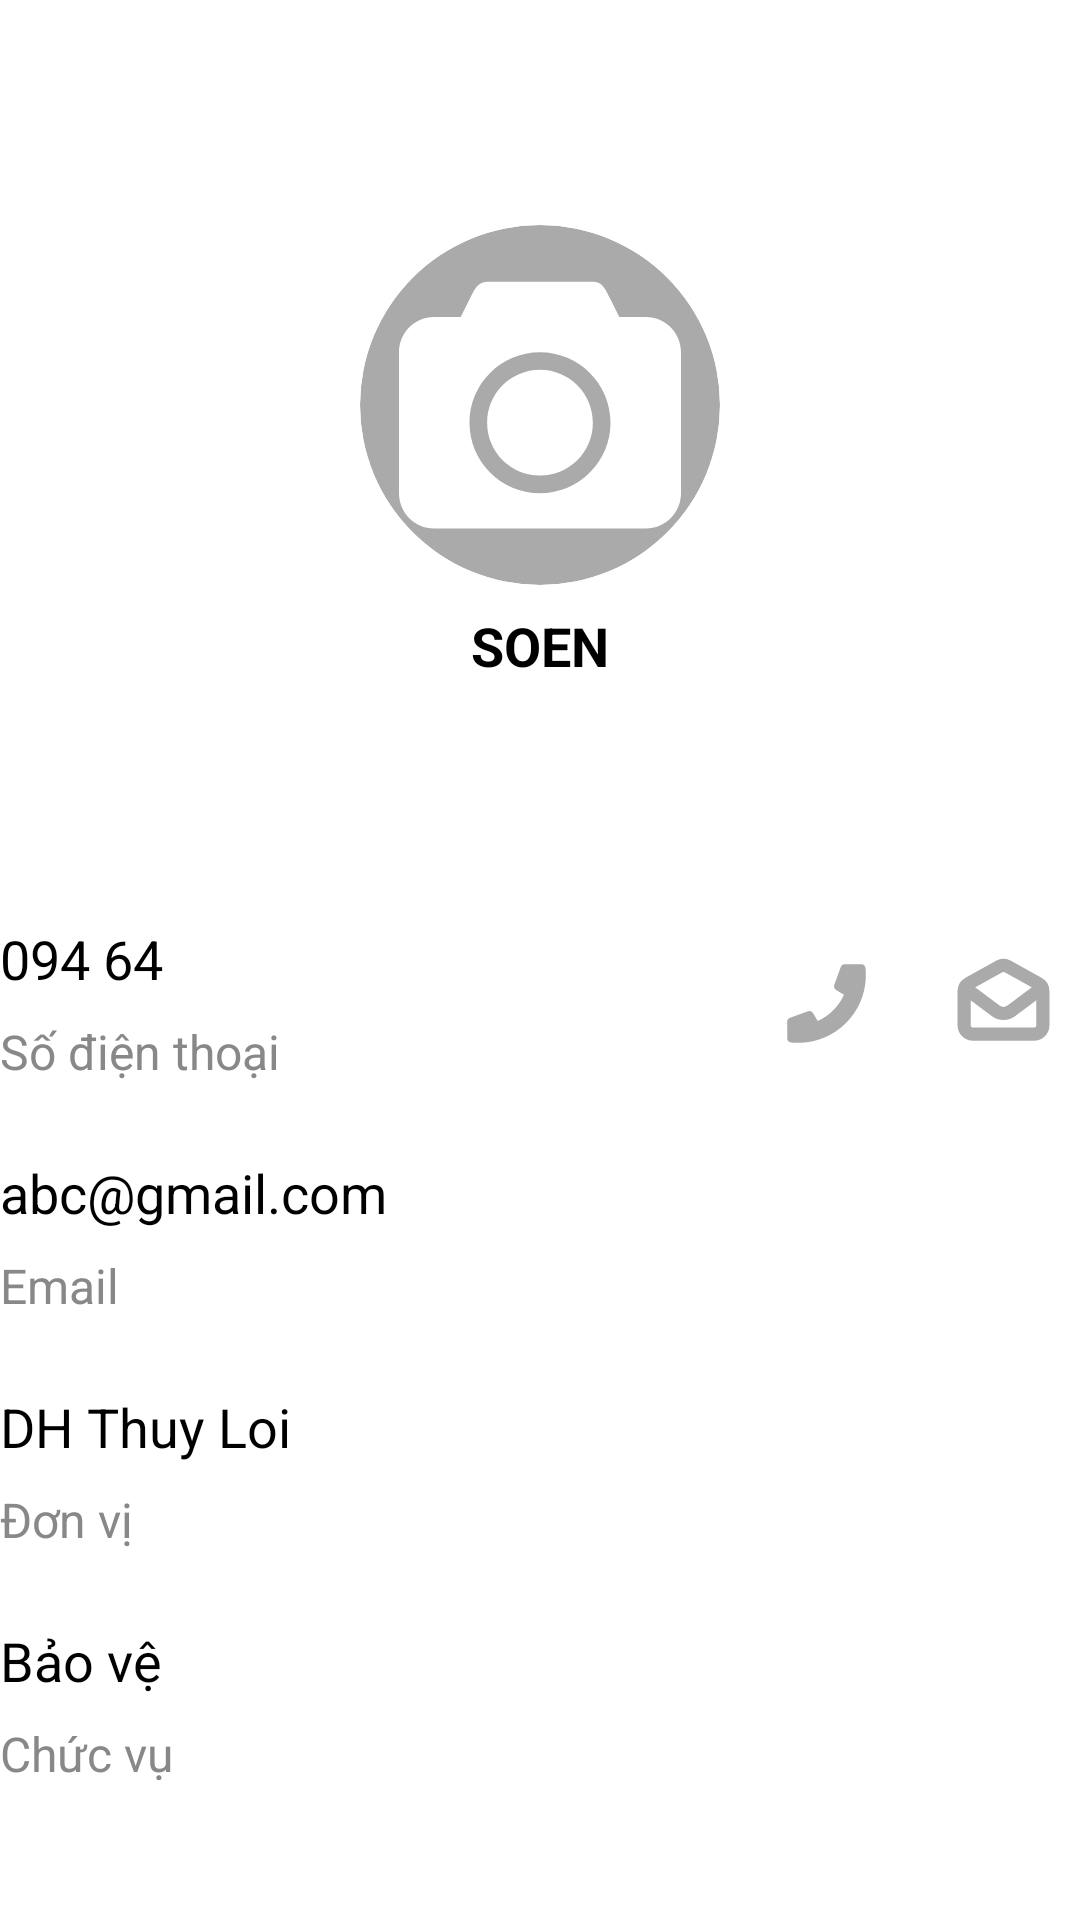

Icons on this 1080 x 1920 Android screen, each with its box as [x1=x1, y1=y1, x2=x2, y2=y2]:
camera: [x1=360, y1=225, x2=720, y2=585]
email: [x1=957, y1=959, x2=1050, y2=1041]
phone: [x1=787, y1=964, x2=866, y2=1043]
